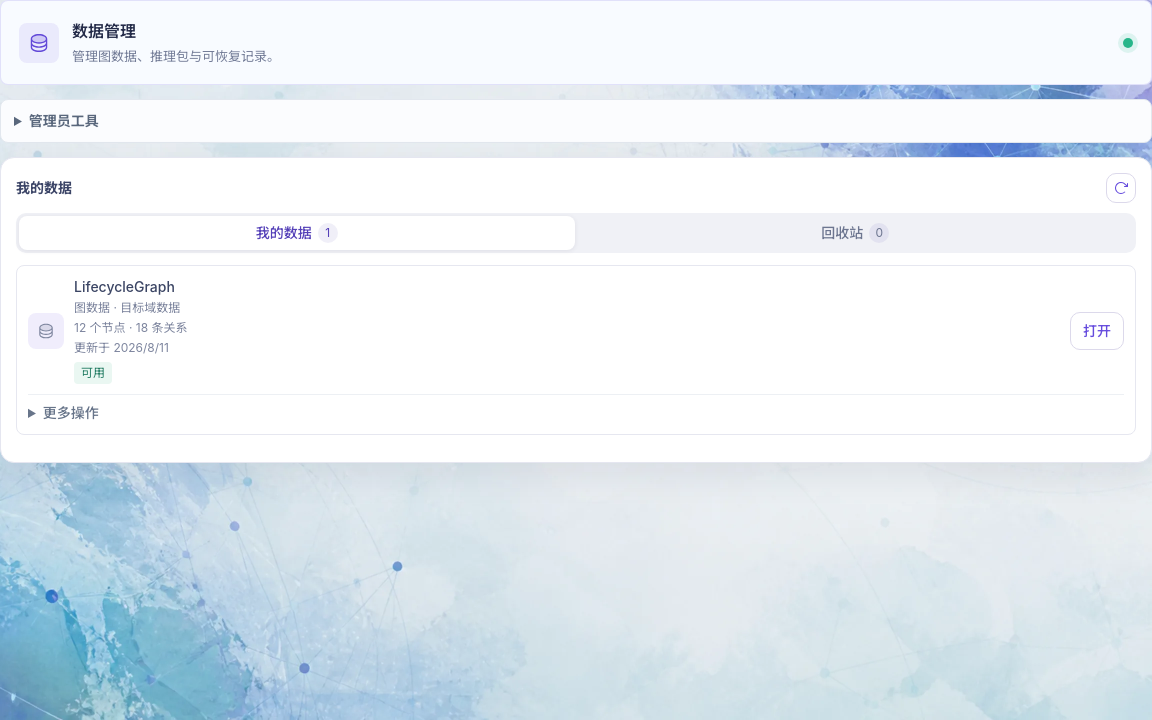
Test: ResearchDatasetPanel portable package selection › keeps administrator-only identities out of the document until administrator tools are opened
Expected: the text "LifecycleGraph" is shown, [74,278,175,295]
Expected: the text "可用" is shown, [74,362,112,384]
Click the heading "管理员工具" at coordinates (64, 120), box [29,112,99,129]
(page scrolled)
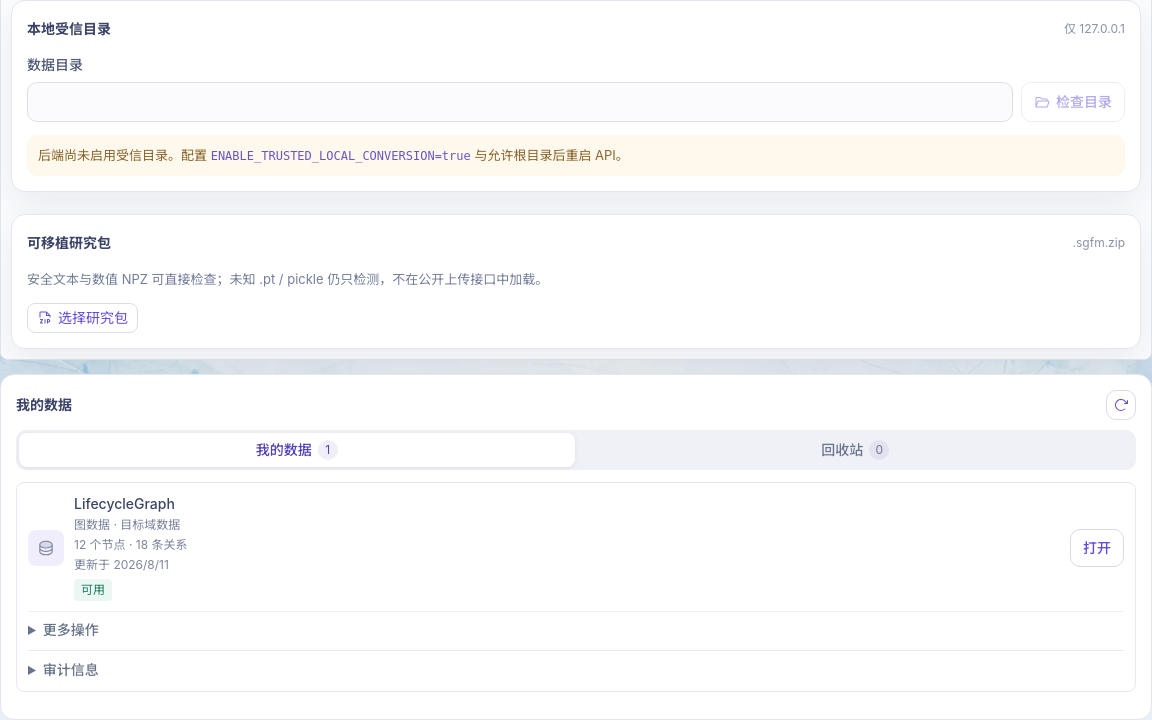
Result: the field labelled "数据目录" is shown at [27,82,1013,122]
Click the heading "审计信息" at coordinates (71, 670), box [43,661,99,678]
(page scrolled)
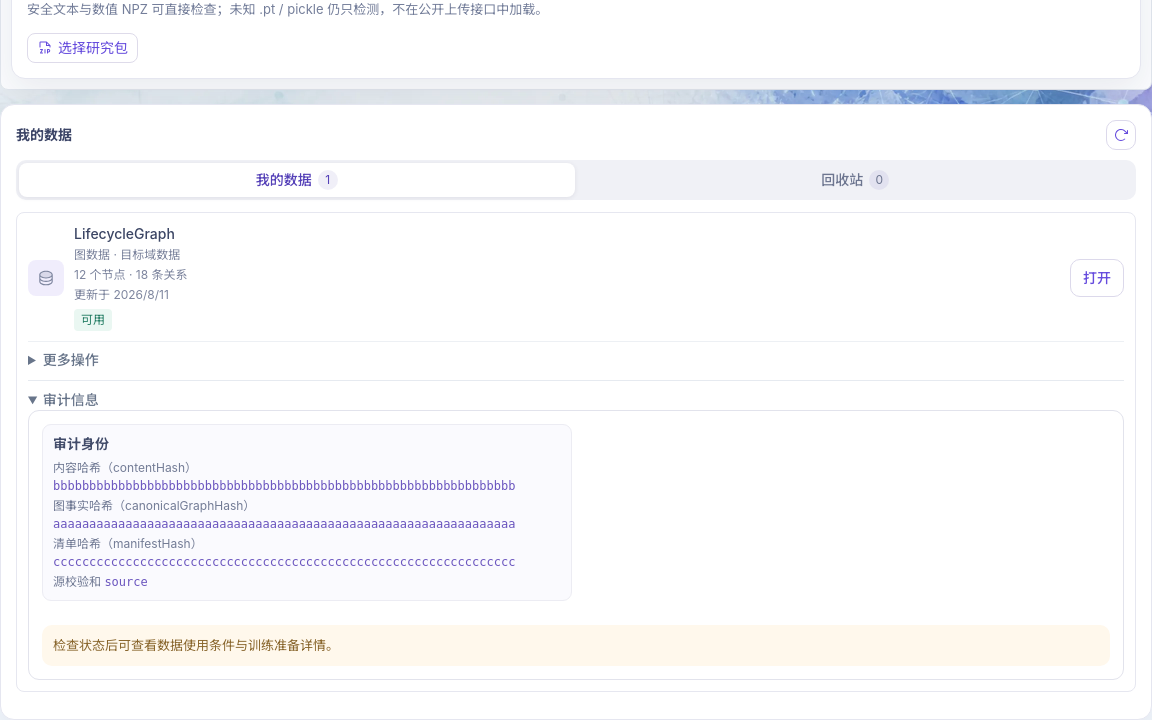
Result: the text "审计身份" is shown at [53,435,109,452]
Result: the text "内容哈希（contentHash）" is shown at [53,460,197,475]
